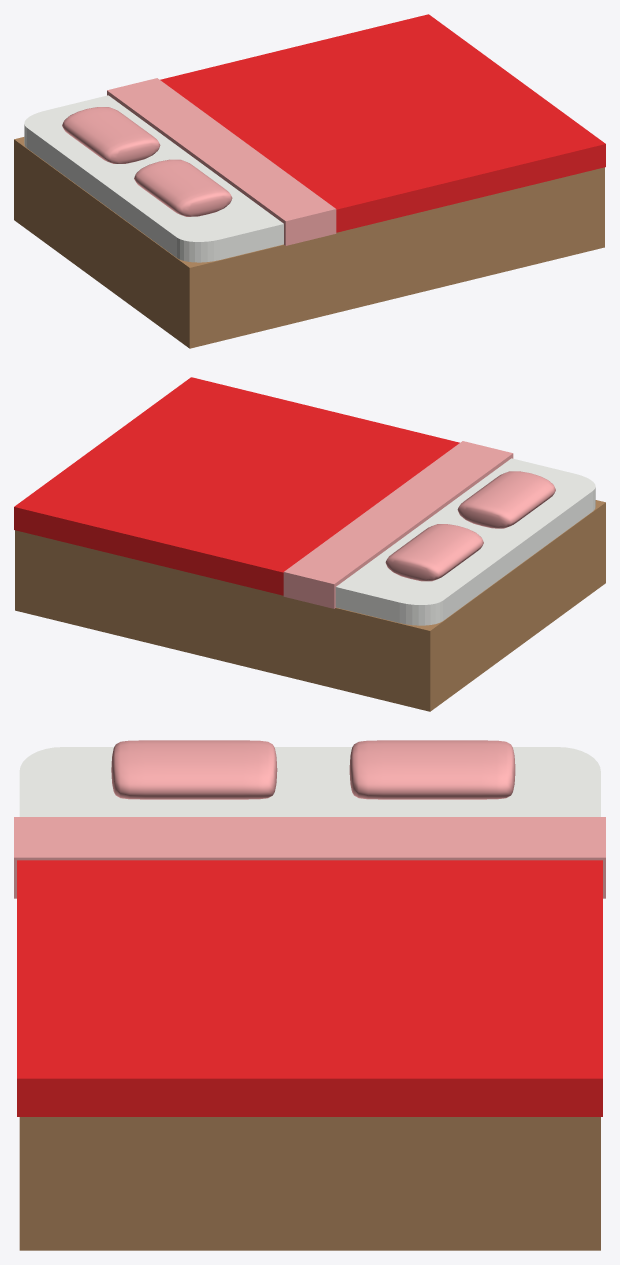
The model's file is Master bed.fbx.
The picture shows the model from 3 angles, top to bottom: view 1: azimuth 30°, elevation 25°; view 2: azimuth 150°, elevation 25°; view 3: azimuth 270°, elevation 25°; orthographic projection. The views are drawn at different scales.
Visible parts, largest first — view 1: blanket; view 2: blanket; view 3: blanket.
Part boxes in pixels (box(x1,y1,x2,y2)): blanket: box(14, 14, 605, 348); blanket: box(14, 377, 605, 711); blanket: box(14, 740, 605, 1250).
Size of the model in its own units: 273 by 76.21 by 204.
